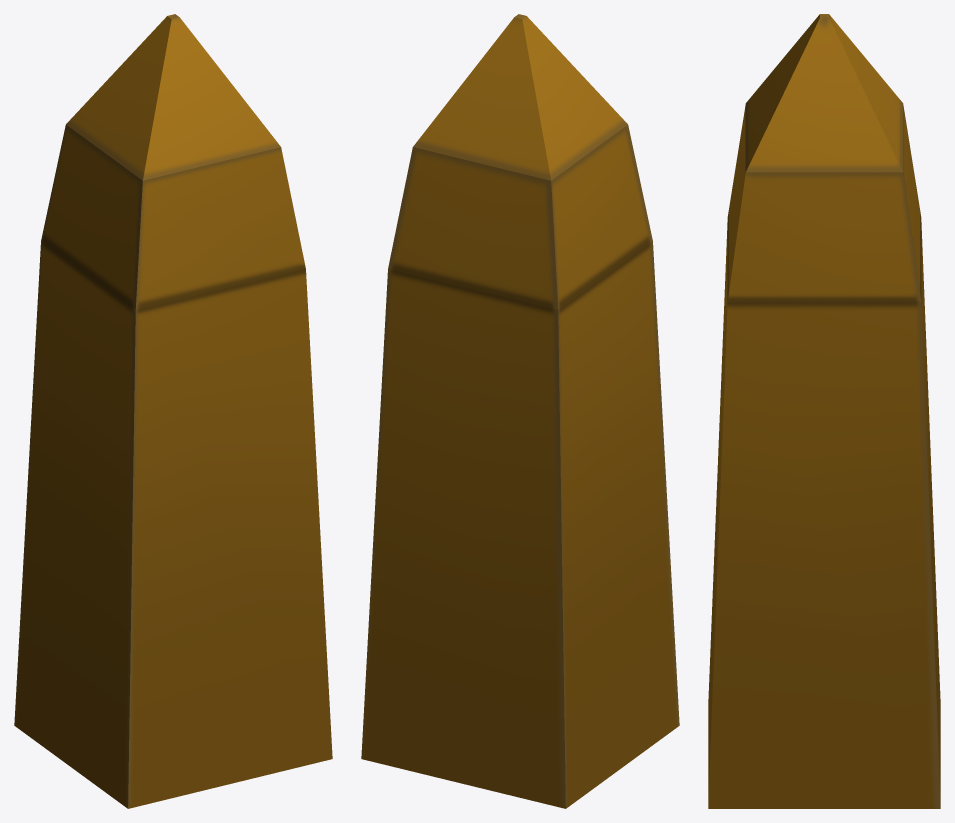
The model's file is Grass_Wall.fbx.
The picture shows the model from 3 angles, left to right: view 1: azimuth 30°, elevation 25°; view 2: azimuth 150°, elevation 25°; view 3: azimuth 270°, elevation 25°; orthographic projection. The views are drawn at different scales.
Parts seen in each view (by area): view 1: Cube.005; view 2: Cube.005; view 3: Cube.005.
Boxes of the visible parts, bbox=[...] form: Cube.005: bbox=[14, 14, 332, 808]; Cube.005: bbox=[361, 14, 679, 808]; Cube.005: bbox=[708, 14, 940, 808].
Bounding box in the file's own units: 18.57 × 62.94 × 17.89.
